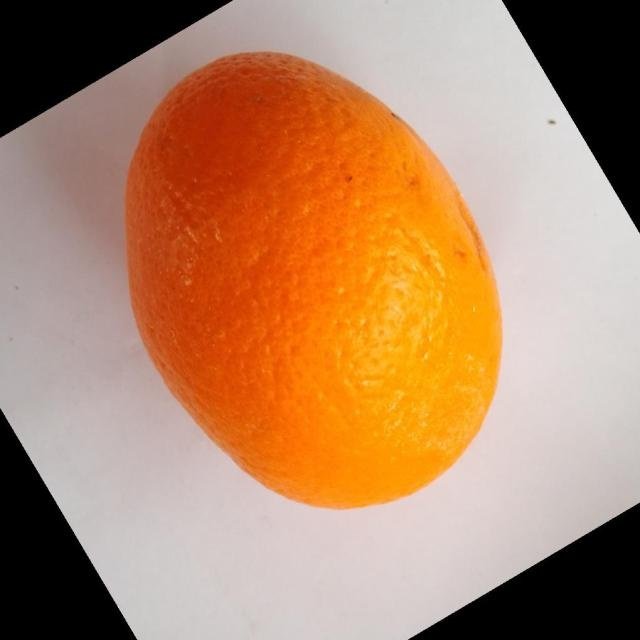agrume: (123, 49, 504, 510)
